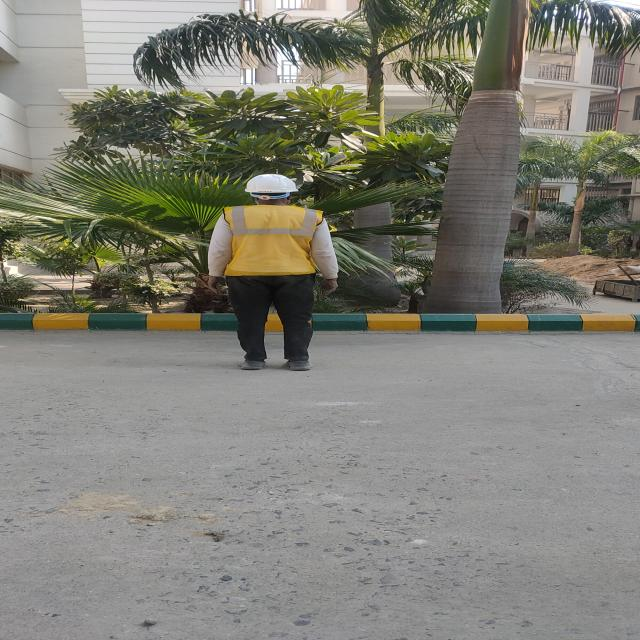safe: (212, 174, 340, 369)
